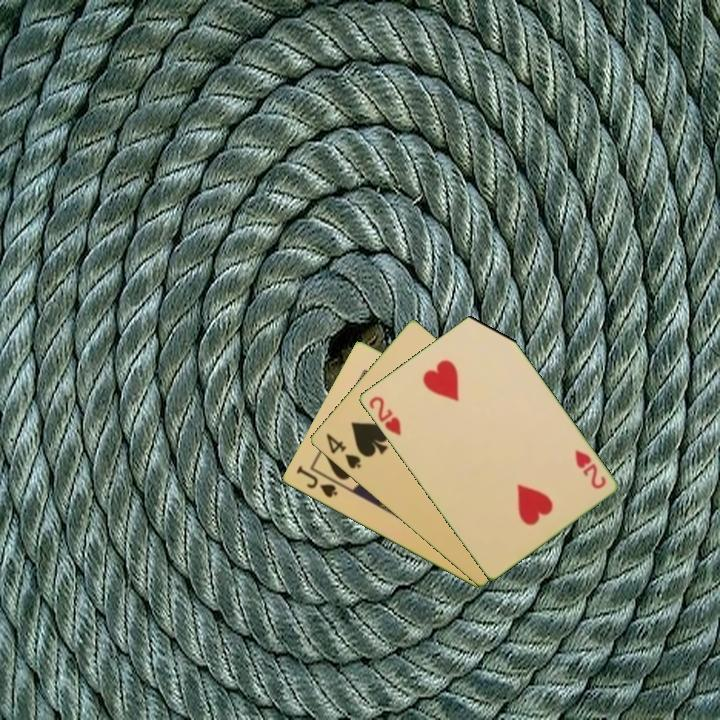2h: (365, 393, 404, 438), (571, 446, 608, 492)
4s: (322, 430, 364, 472)
Js: (292, 462, 340, 501)
